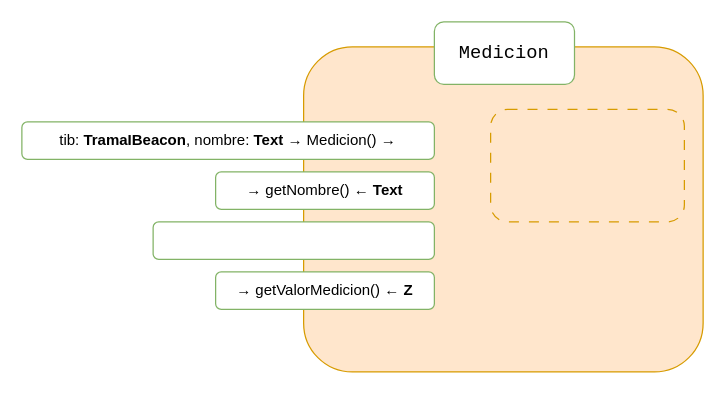
Some shapes in this 725 by 394 pixel diagram are drawn without their labels. The shapes that lost their labels are listed below. From the top down, each one's box as (x1, y1, x2, y2) in pixels, then its label:
(489, 108, 684, 222): nombre: Text tipoMedicion: Text valorMedicion: Z
(152, 221, 434, 259): → getTipoMedicion() ← Text
